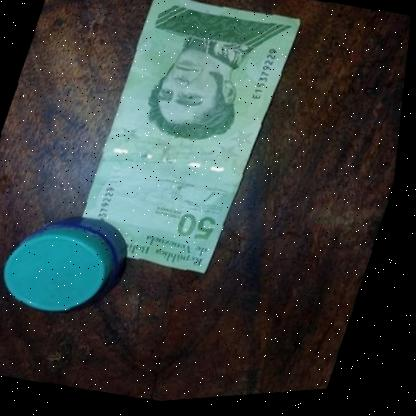fifty-front-vef: (68, 0, 305, 287)
